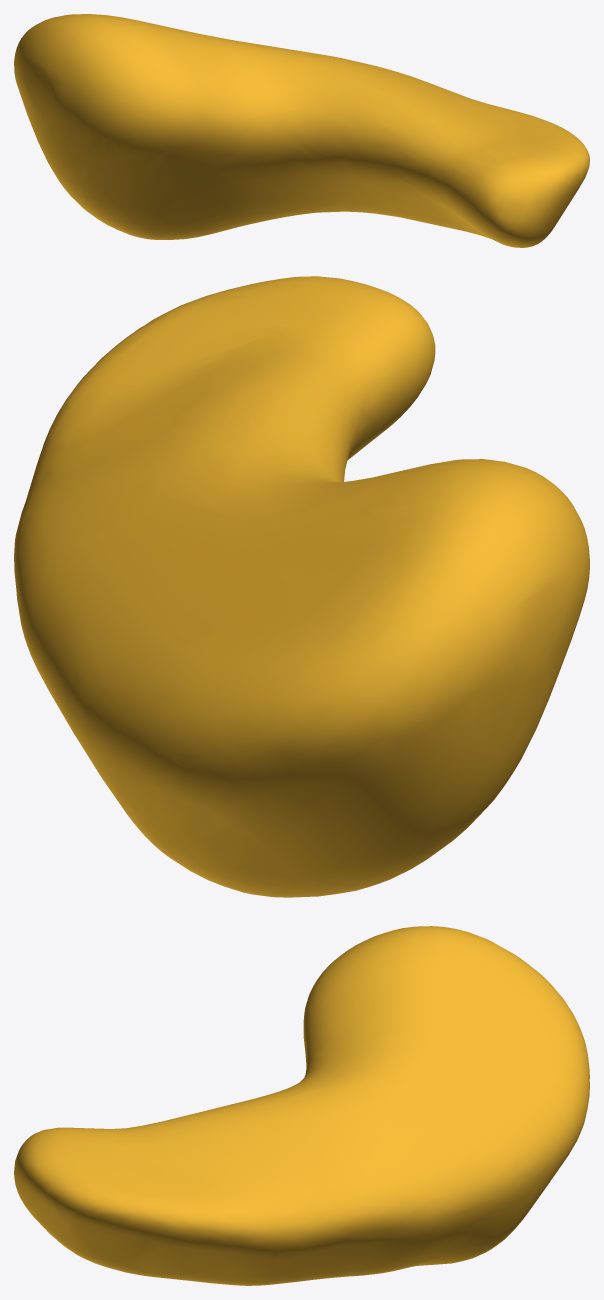
File: nervoso-inferior-semilunar-lobule-l.glb
3 renders of one model, top to bottom at view 1: azimuth 30°, elevation 25°; view 2: azimuth 150°, elevation 25°; view 3: azimuth 270°, elevation 25°, orthographic. The views are drawn at different scales.
Visible parts, largest first — view 1: Inferior semilunar lobule.l; view 2: Inferior semilunar lobule.l; view 3: Inferior semilunar lobule.l.
Boxes of the visible parts, x1=… form: Inferior semilunar lobule.l: x1=14, y1=14, x2=589, y2=247; Inferior semilunar lobule.l: x1=14, y1=276, x2=589, y2=897; Inferior semilunar lobule.l: x1=14, y1=926, x2=589, y2=1285.
Bounding box in the file's own units: 0.0475 × 0.0285 × 0.0567.
